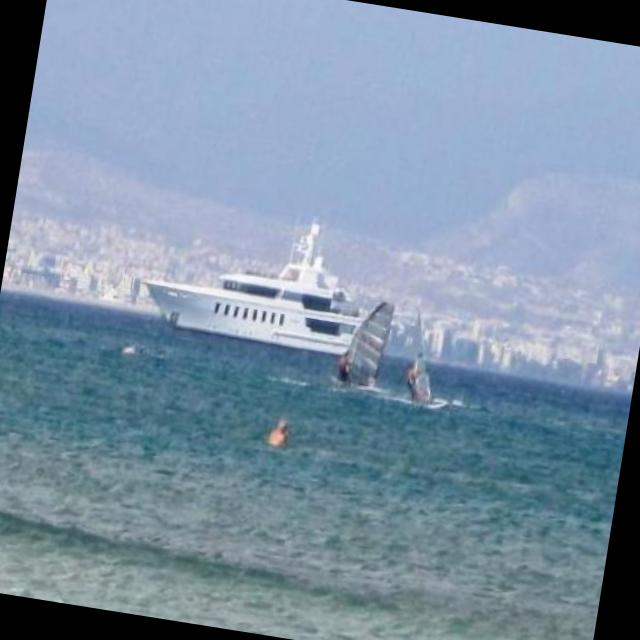boat: (110, 218, 408, 366)
